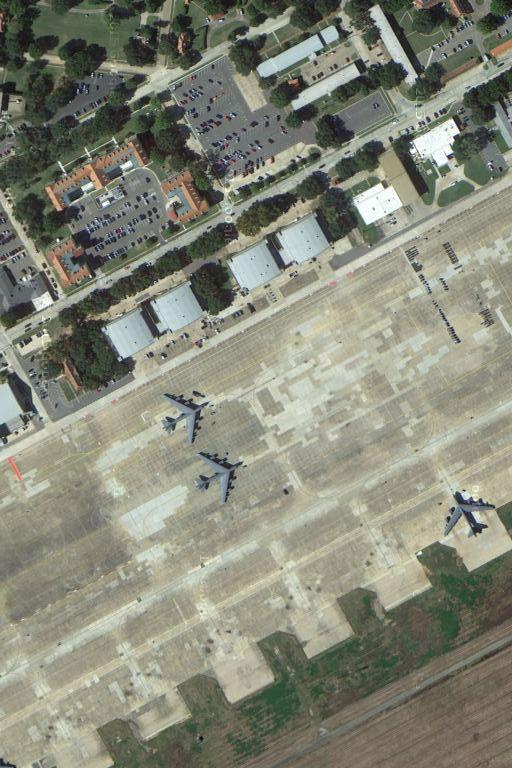B-52: (440, 484, 498, 545), (191, 447, 245, 508), (161, 389, 212, 447)
